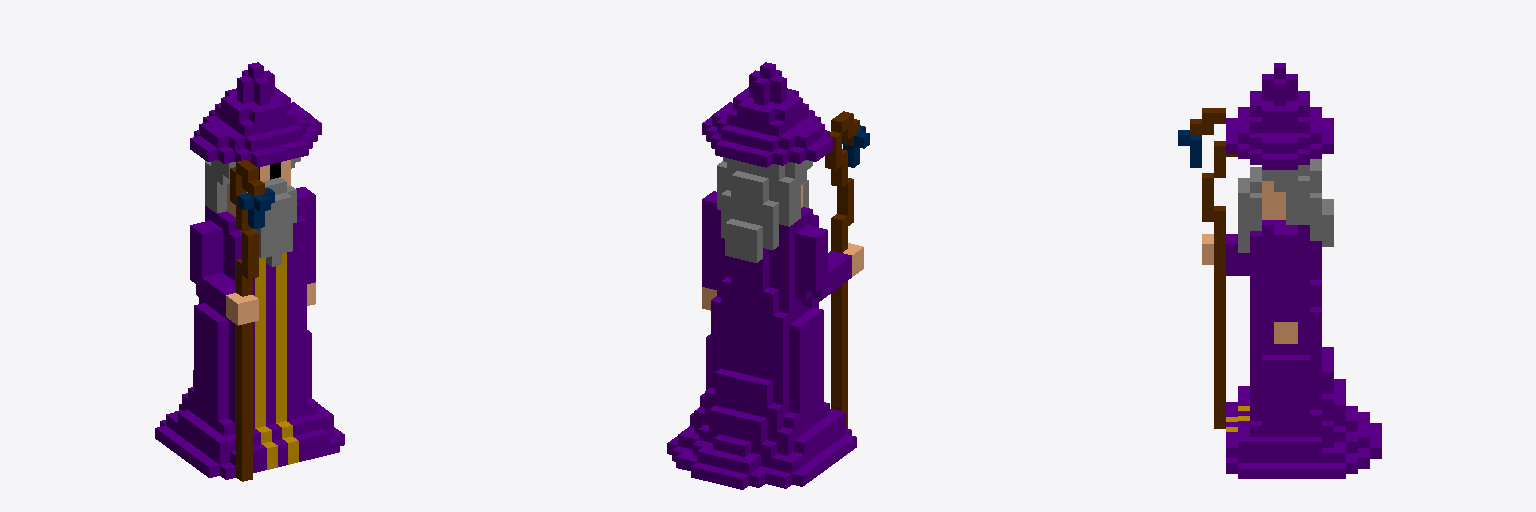
3 views of the same model, side by side, from view 1: azimuth 30°, elevation 25°; view 2: azimuth 150°, elevation 25°; view 3: azimuth 270°, elevation 25° (orthographic).
Bounding box in the file's own units: 13 × 35 × 17.
1 materials, 1 textured.